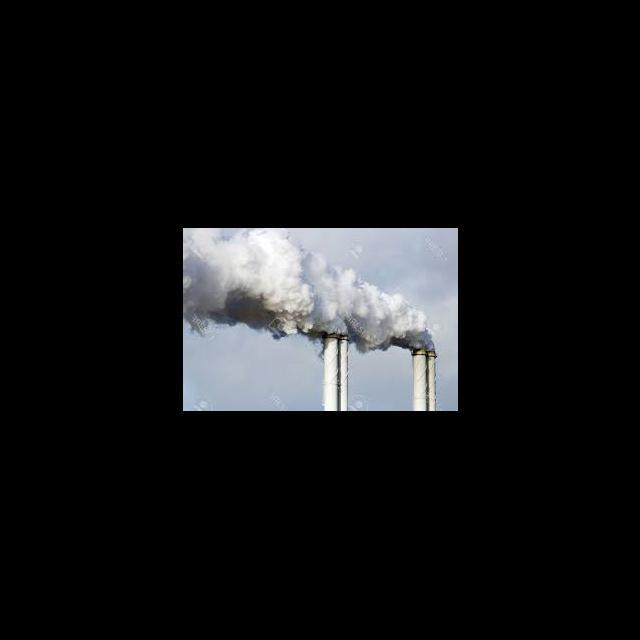Smoke: (182, 231, 286, 311), (290, 266, 350, 319), (352, 298, 402, 328), (260, 311, 308, 332), (402, 314, 426, 339), (286, 247, 318, 264), (359, 330, 386, 350), (349, 280, 378, 296)
